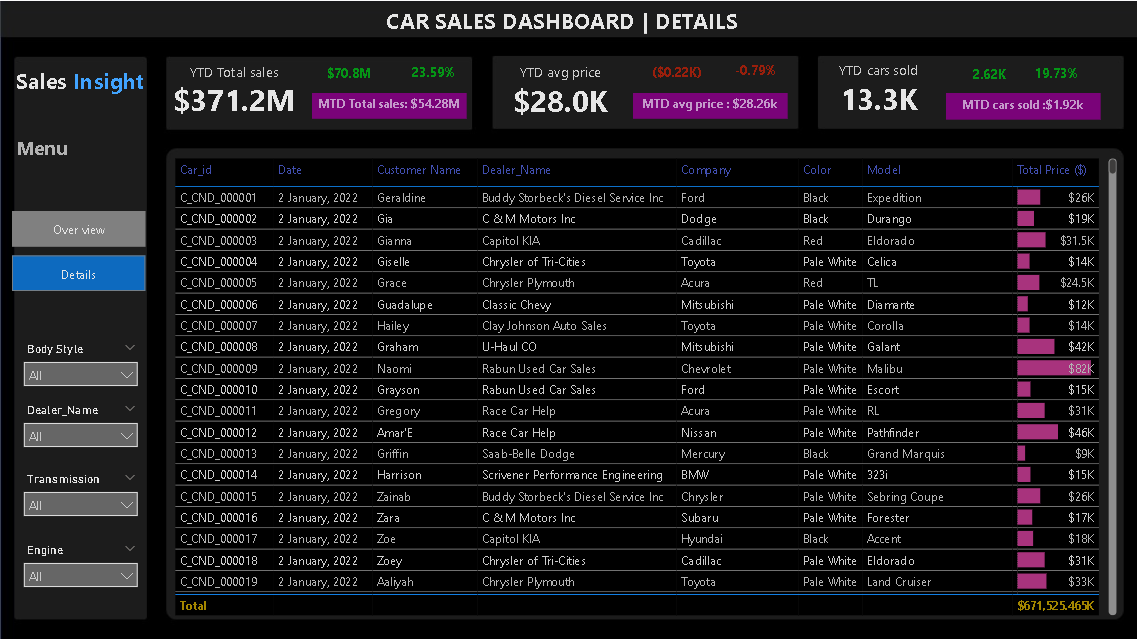

What the dashboard file says about the page in this screenshot:
{"tool":"powerbi","page":{"name":"Details","canvas":[1280,720],"ordinal":1},"visuals":[{"type":"card","title":"YTD Total sales","fields":{"Values":["car_data.YTD_Total_sale"]},"box":[185.6,69.8,155.2,63],"z":0},{"type":"card","fields":{"Values":["car_data.Sales Differe"]},"box":[355.5,64.1,74.2,38.2],"z":1000},{"type":"card","fields":{"Values":["car_data.YoY Sales Growth"]},"box":[429.8,64.1,114.8,36],"z":2000},{"type":"card","fields":{"Values":["car_data.MTD KPI"]},"box":[351,103.5,174.4,29.2],"z":3000},{"type":"card","title":"YTD avg price","fields":{"Values":["car_data.YTD avg pr"]},"box":[541.1,69.8,178.9,64.1],"z":4000},{"type":"card","fields":{"Values":["car_data.avg price diff"]},"box":[712.1,63,99,39.4],"z":5000},{"type":"card","fields":{"Values":["car_data.YOY avg price Growth"]},"box":[799.9,60.8,99,39.4],"z":6000},{"type":"card","fields":{"Values":["car_data.MTD avg KPI"]},"box":[712.1,103.5,174.4,29.2],"z":7000},{"type":"card","title":"YTD cars sold","fields":{"Values":["Table.YTD cars sold"]},"box":[898.9,67.5,178.9,64.1],"z":8000},{"type":"card","fields":{"Values":["Measere.cars sold diff"]},"box":[1064,64,98.3,40],"z":9000},{"type":"card","fields":{"Values":["Measere.YOY car sold Growth"]},"box":[1138.5,64.1,99,39.4],"z":10000},{"type":"card","fields":{"Values":["Measere.MTD cars sold KPI"]},"box":[1064,104,173.7,29.7],"z":11000},{"type":"textbox","box":[430.1,0,447,41.8],"z":12000},{"type":"slicer","fields":{"Values":["car_data.Body Style"]},"box":[16.9,379.3,147.9,68.9],"z":13000},{"type":"slicer","fields":{"Values":["car_data.Dealer_Name"]},"box":[16.9,448.1,147.9,68.9],"z":14000},{"type":"slicer","fields":{"Values":["car_data.Transmission"]},"box":[16.9,524.9,147.9,68.9],"z":15000},{"type":"slicer","fields":{"Values":["car_data.Engine"]},"box":[16.9,605,147.9,68.9],"z":16000},{"type":"tableEx","fields":{"Values":["car_data.Car_id","car_data.Date","car_data.Customer Name","car_data.Dealer_Name","car_data.Company","car_data.Color","car_data.Model","Sum(car_data.Price ($))"]},"box":[190.8,171.6,1070.1,523.7],"z":17000},{"type":"pageNavigator","box":[13.5,236.2,150.8,91.1],"z":18000},{"type":"textbox","box":[13.5,67.5,158.6,149.6],"z":19000},{"type":"textbox","box":[13.5,144,136.1,59.6],"z":20000}]}

Visuals, with their boxes in screenshot pixels (x1, y1, x2, y2), scaled from the page's 1280x720 canvas onto the 1137x639 screenshot:
"YTD Total sales" card: (left=165, top=62, right=303, bottom=118)
card - car_data.Sales Differe: (left=316, top=57, right=382, bottom=91)
card - car_data.YoY Sales Growth: (left=382, top=57, right=484, bottom=89)
card - car_data.MTD KPI: (left=312, top=92, right=467, bottom=118)
"YTD avg price" card: (left=481, top=62, right=640, bottom=119)
card - car_data.avg price diff: (left=633, top=56, right=720, bottom=91)
card - car_data.YOY avg price Growth: (left=711, top=54, right=798, bottom=89)
card - car_data.MTD avg KPI: (left=633, top=92, right=787, bottom=118)
"YTD cars sold" card: (left=798, top=60, right=957, bottom=117)
card - Measere.cars sold diff: (left=945, top=57, right=1032, bottom=92)
card - Measere.YOY car sold Growth: (left=1011, top=57, right=1099, bottom=92)
card - Measere.MTD cars sold KPI: (left=945, top=92, right=1099, bottom=119)
textbox: (left=382, top=0, right=779, bottom=37)
slicer - car_data.Body Style: (left=15, top=337, right=146, bottom=398)
slicer - car_data.Dealer_Name: (left=15, top=398, right=146, bottom=459)
slicer - car_data.Transmission: (left=15, top=466, right=146, bottom=527)
slicer - car_data.Engine: (left=15, top=537, right=146, bottom=598)
tableEx - car_data.Car_id x car_data.Date: (left=169, top=152, right=1120, bottom=617)
pageNavigator: (left=12, top=210, right=146, bottom=290)
textbox: (left=12, top=60, right=153, bottom=193)
textbox: (left=12, top=128, right=133, bottom=181)
